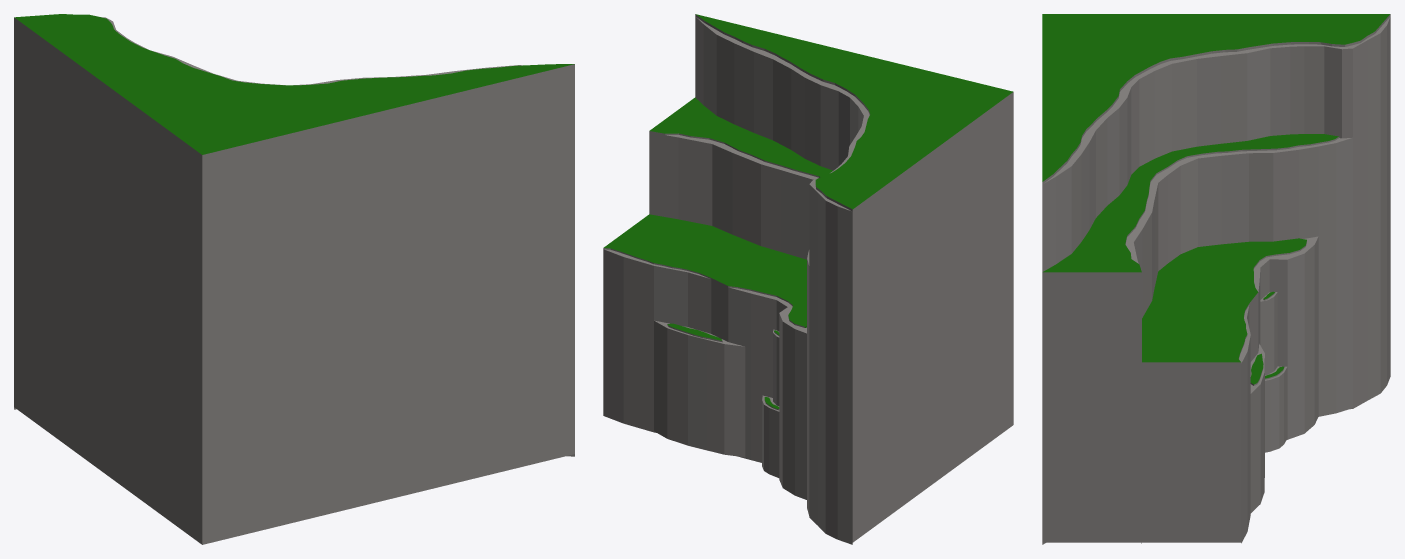
Rendered from STM.fbx.
3 renders of one model, left to right at view 1: azimuth 30°, elevation 25°; view 2: azimuth 150°, elevation 25°; view 3: azimuth 270°, elevation 25°, orthographic. The views are drawn at different scales.
Parts seen in each view (by area): view 1: Plane.003; view 2: Plane.003; view 3: Plane.003.
Part boxes in pixels (<box>): Plane.003: <box>14,14,574,544</box>; Plane.003: <box>603,14,1013,544</box>; Plane.003: <box>1042,14,1390,544</box>.
Bounding box in the file's own units: 100 × 101 × 87.5.
